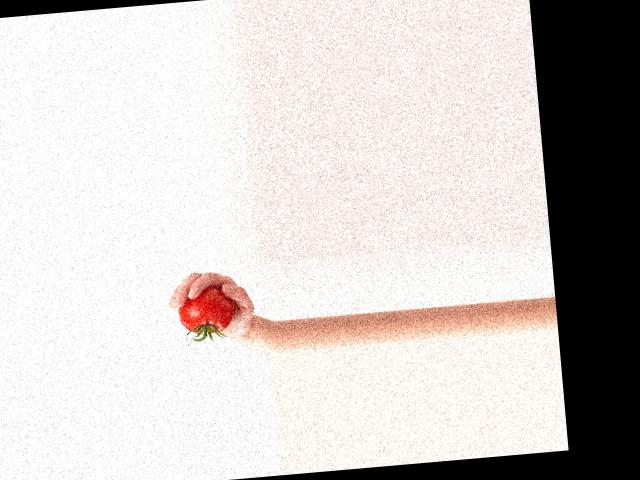tomato: (176, 284, 235, 336)
